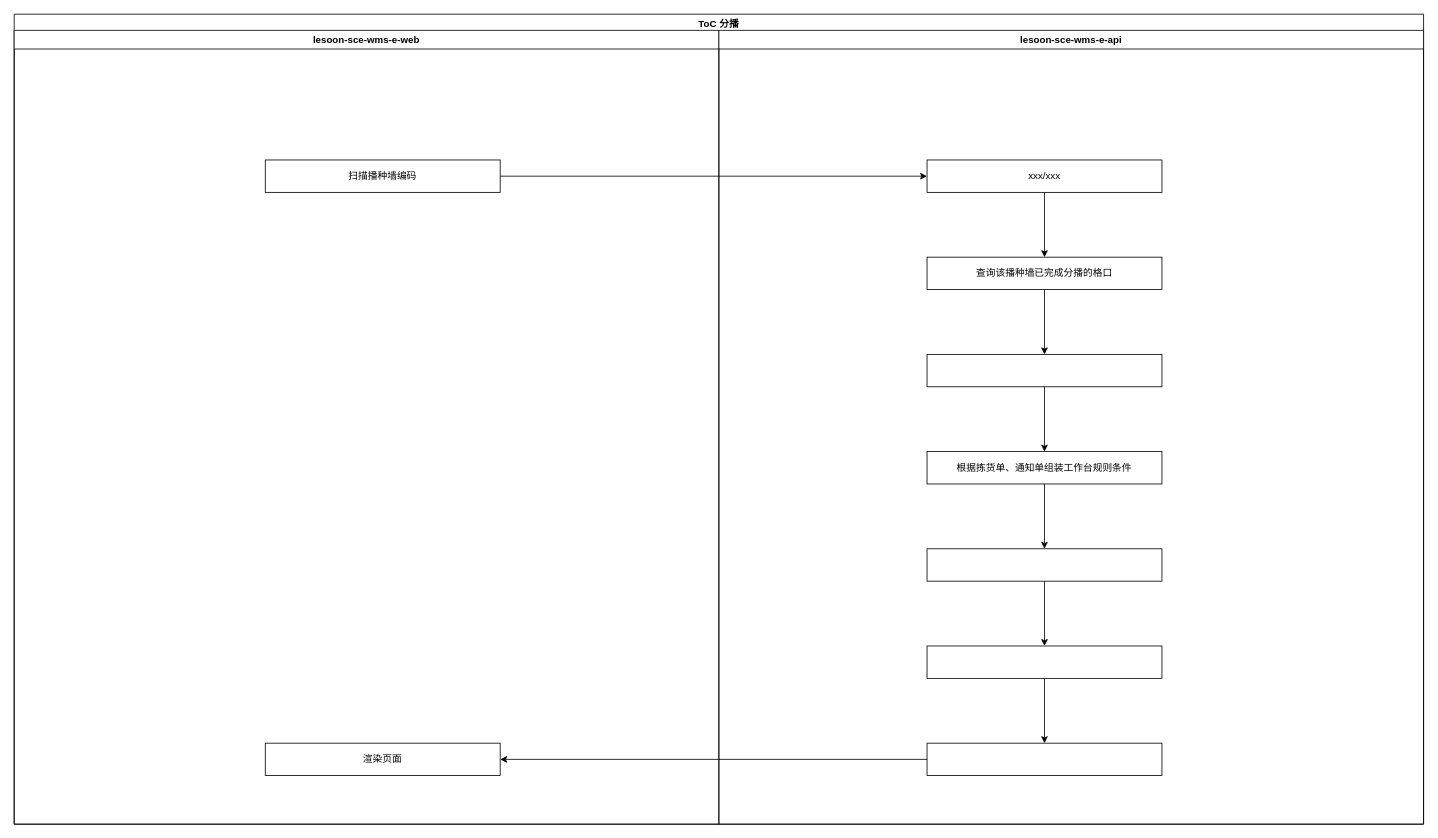
The diagram is 1438 pixels wide and 838 high, and some of its shapes have lost their labels. The shapes that lost their labels are listed below. From the top down, each one's centre as x and y in pixels, then its label:
At pixel 1044 370: "针对每个格口，查询对应的拣货单、通知单".
At pixel 1044 564: "根据规则条件查询复核条件的复核工作台".
At pixel 1044 661: "查询各个工作台的作业量，取作业量最少的一个".
At pixel 1044 759: "返回".
